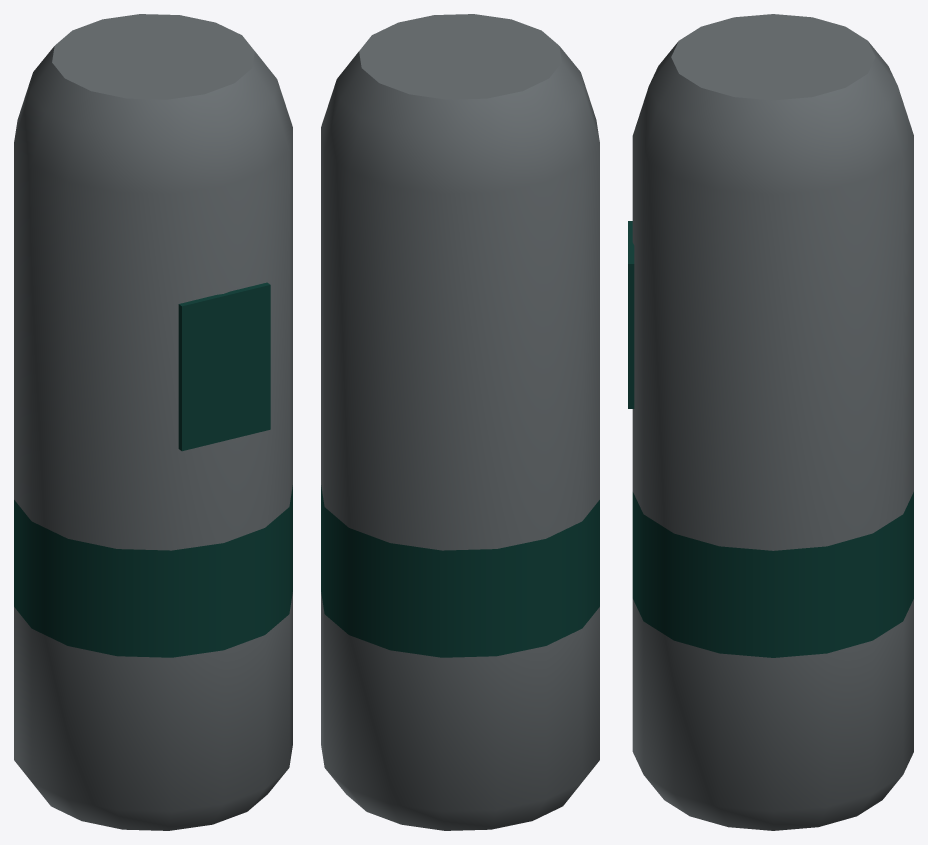
The model's file is tear-gas-canister.glb.
3 views of the same model, side by side, from view 1: azimuth 30°, elevation 25°; view 2: azimuth 150°, elevation 25°; view 3: azimuth 270°, elevation 25° (orthographic).
Parts seen in each view (by area): view 1: tear-gas-canister; view 2: tear-gas-canister; view 3: tear-gas-canister.
Boxes of the visible parts, x1,y1,x2,y2 form: tear-gas-canister: [14, 14, 292, 830]; tear-gas-canister: [321, 14, 599, 830]; tear-gas-canister: [628, 14, 913, 830].
Bounding box in the file's own units: 0.088 × 0.25 × 0.0895.
1 material, 1 textured.
